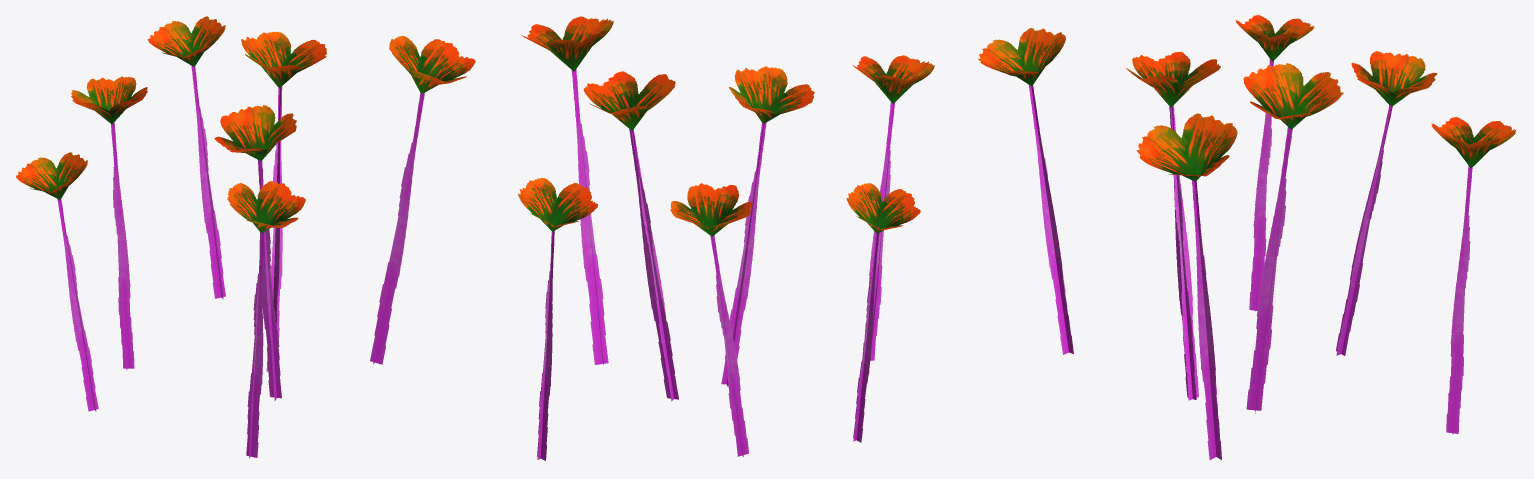
Rendered from SM_Yellow_Lilith_clump.fbx.
3 renders of one model, left to right at view 1: azimuth 30°, elevation 25°; view 2: azimuth 150°, elevation 25°; view 3: azimuth 270°, elevation 25°, orthographic. The views are drawn at different scales.
Parts seen in each view (by area): view 1: SM_Yellow_Lilith_clump_LOD0; view 2: SM_Yellow_Lilith_clump_LOD0; view 3: SM_Yellow_Lilith_clump_LOD0.
Boxes of the visible parts, left/top/right/bottom form: SM_Yellow_Lilith_clump_LOD0: left=16, top=16, right=475, bottom=458; SM_Yellow_Lilith_clump_LOD0: left=518, top=16, right=934, bottom=460; SM_Yellow_Lilith_clump_LOD0: left=978, top=15, right=1516, bottom=459.
Bounding box in the file's own units: 37.35 × 37.78 × 27.1.
